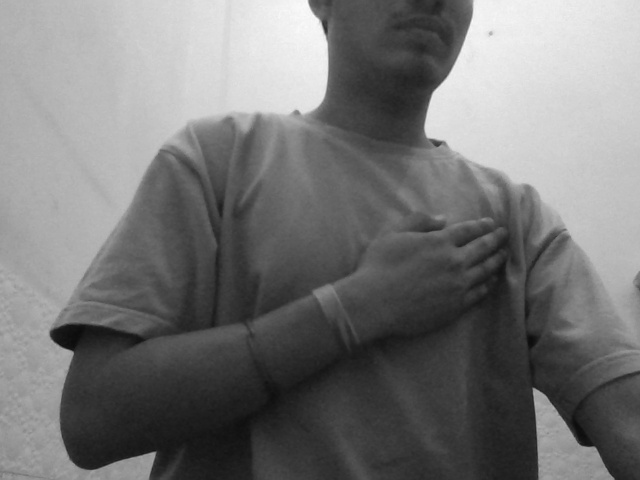Sorry: (303, 201, 558, 374)
